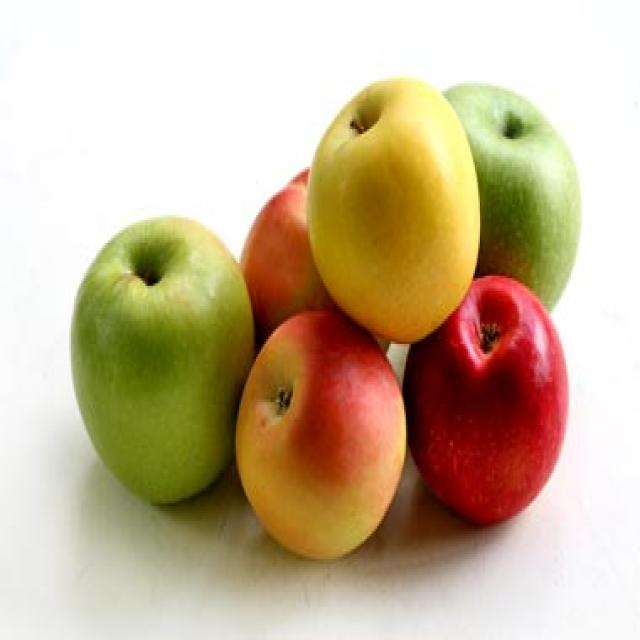apple: (68, 211, 258, 503), (236, 308, 416, 554), (407, 266, 566, 544)
